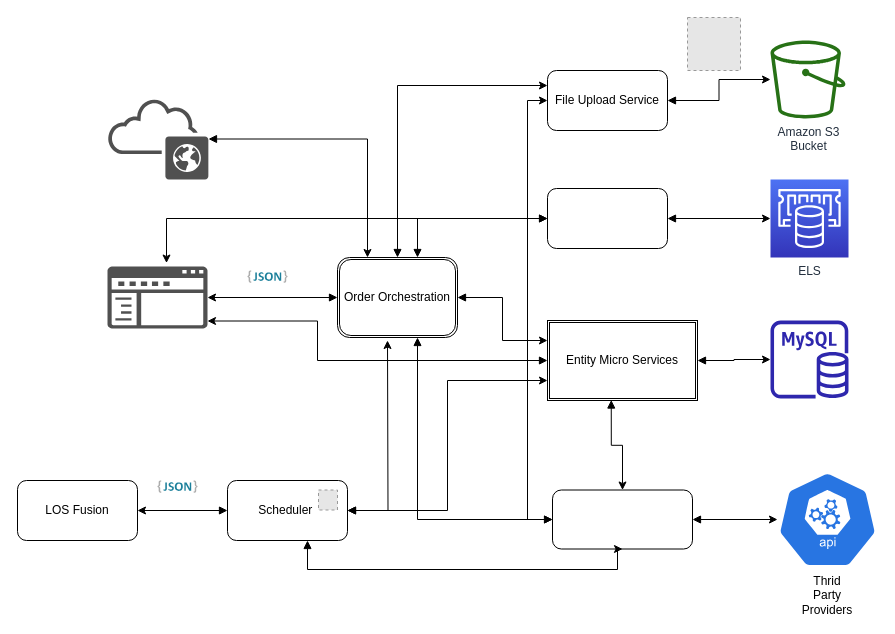
The diagram is 895 pixels wide and 634 high, and some of its shapes have lost their labels. Grey dashed boxes stand in for pictures. Here are the shapes that lost their labels. From the top down, the centre of each, then its label:
At [157,138]: "Public API".
At [607,218]: "Order Listing Service".
At [157,297]: "LOLA Portal".
At [622,519]: "Proxy".
